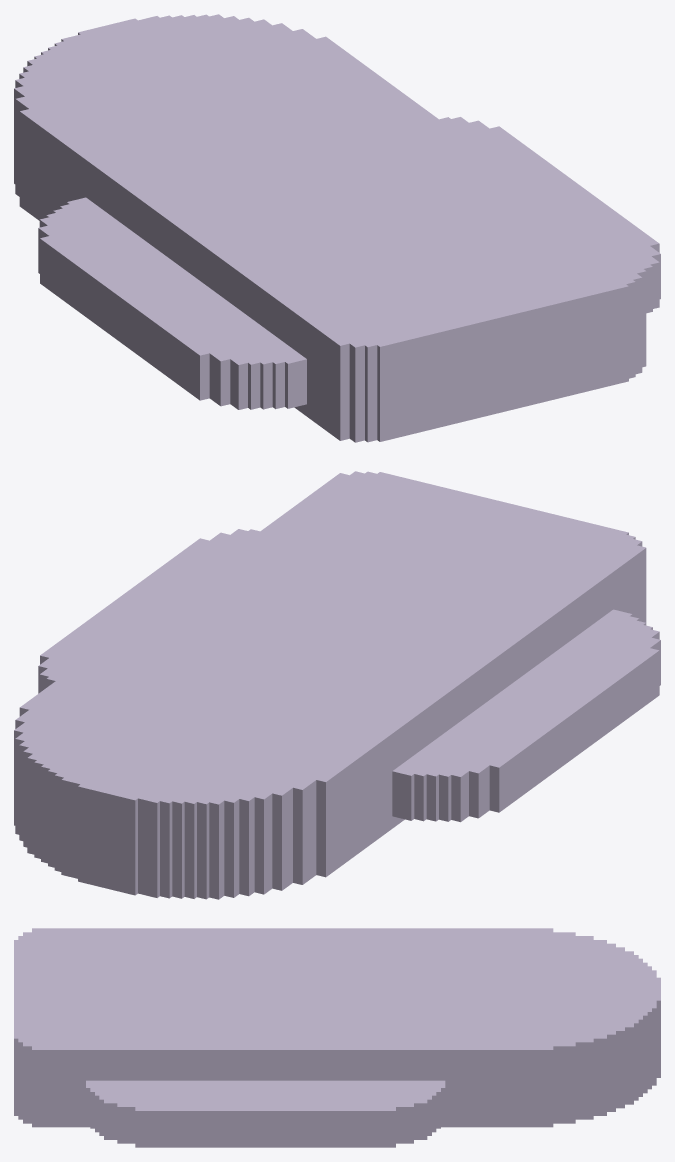
File: au.m.crescent-r3.glb
The picture shows the model from 3 angles, top to bottom: view 1: azimuth 30°, elevation 25°; view 2: azimuth 150°, elevation 25°; view 3: azimuth 270°, elevation 25°; orthographic projection. The views are drawn at different scales.
Visible parts, largest first — view 1: ReviewedAuthoredCelestial; view 2: ReviewedAuthoredCelestial; view 3: ReviewedAuthoredCelestial.
Boxes of the visible parts, x1=… form: ReviewedAuthoredCelestial: x1=14, y1=14, x2=660, y2=442; ReviewedAuthoredCelestial: x1=14, y1=471, x2=660, y2=899; ReviewedAuthoredCelestial: x1=14, y1=928, x2=660, y2=1147.
Size of the model in its own units: 12 by 2.38 by 18.
